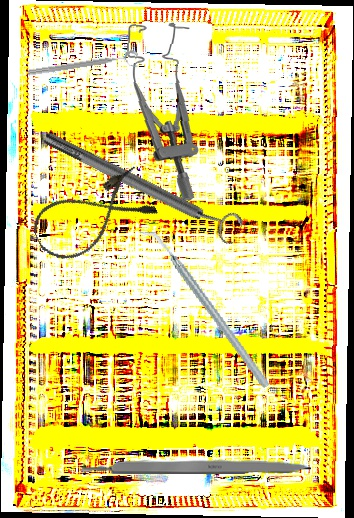Cannula: (26, 163, 160, 270)
Chopper: (138, 208, 272, 408)
Fixation Ring: (38, 120, 247, 249), (27, 49, 140, 85)
Scalpel Handle: (82, 458, 311, 474)
Speculum: (118, 19, 206, 203)
